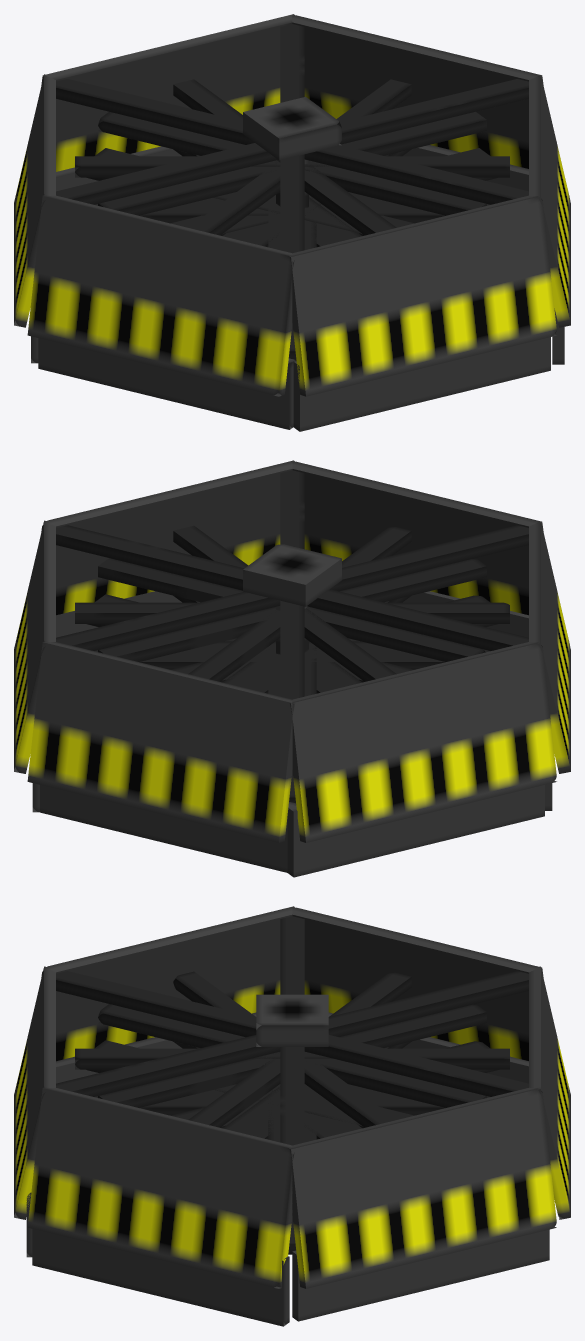
The model's file is electric_turbine_large.obj.
The picture shows the model from 3 angles, top to bottom: view 1: azimuth 30°, elevation 25°; view 2: azimuth 150°, elevation 25°; view 3: azimuth 270°, elevation 25°; orthographic projection.
Parts seen in each view (by area): view 1: Shape3, Shape2, Shape7, Shape5, Shape8, Shape15, Shape16, Shape10, Blade6, Shape4, Shape6, Blade4 (+13 smaller); view 2: Shape7, Shape6, Shape4, Shape2, Shape14, Shape16, Shape9, Shape13, Blade2, Blade4, Shape3, Shape5 (+13 smaller); view 3: Shape5, Shape4, Shape3, Shape6, Shape11, Shape15, Shape14, Shape12, Blade6, Shape7, Shape2, Blade2 (+13 smaller).
Part boxes in pixels (bbox=[...]): Shape3: bbox=[27, 195, 294, 396]; Shape2: bbox=[289, 195, 556, 396]; Shape7: bbox=[41, 14, 294, 171]; Shape5: bbox=[292, 15, 543, 168]; Shape8: bbox=[293, 337, 550, 431]; Shape15: bbox=[56, 79, 528, 204]; Shape16: bbox=[56, 79, 528, 204]; Shape10: bbox=[38, 338, 295, 429]; Blade6: bbox=[98, 111, 486, 215]; Shape4: bbox=[529, 76, 570, 327]; Shape6: bbox=[14, 74, 55, 327]; Blade4: bbox=[98, 111, 486, 215]; Shape7: bbox=[27, 641, 295, 842]; Shape6: bbox=[289, 642, 556, 842]; Shape4: bbox=[41, 460, 294, 615]; Shape2: bbox=[292, 461, 543, 615]; Shape14: bbox=[56, 525, 528, 650]; Shape16: bbox=[56, 525, 528, 650]; Shape9: bbox=[287, 785, 544, 877]; Shape13: bbox=[40, 785, 296, 872]; Blade2: bbox=[98, 559, 486, 661]; Blade4: bbox=[98, 558, 485, 661]; Shape3: bbox=[529, 522, 570, 773]; Shape5: bbox=[14, 520, 55, 773]; Shape5: bbox=[289, 1087, 556, 1288]; Shape4: bbox=[27, 1087, 294, 1288]; Shape3: bbox=[41, 906, 294, 1061]; Shape6: bbox=[292, 907, 543, 1060]; Shape11: bbox=[32, 1229, 289, 1326]; Shape15: bbox=[56, 971, 528, 1096]; Shape14: bbox=[56, 971, 528, 1096]; Shape12: bbox=[292, 1229, 549, 1321]; Blade6: bbox=[98, 1004, 486, 1107]; Shape7: bbox=[529, 966, 570, 1219]; Shape2: bbox=[14, 966, 55, 1219]; Blade2: bbox=[98, 1004, 486, 1107].
Size of the model in its own units: 3.24 by 1.06 by 2.88.
